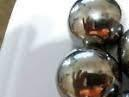ironball: (51, 46, 119, 96), (62, 0, 126, 48), (117, 17, 128, 88), (107, 85, 128, 96)
